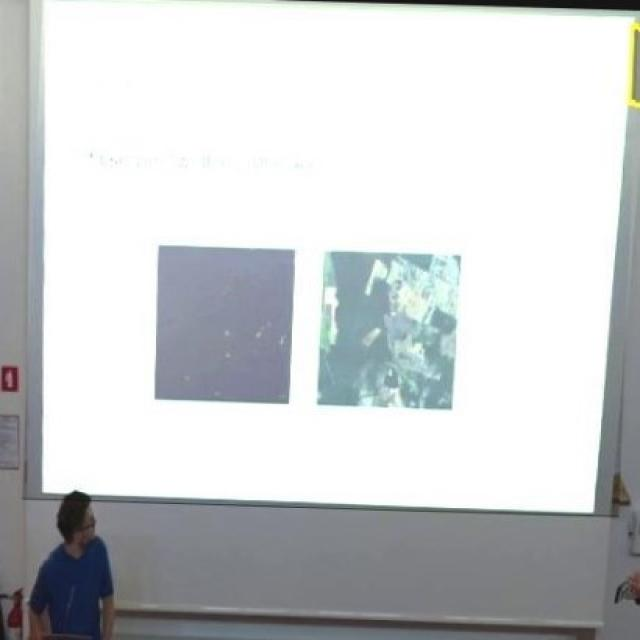Instructor: (39, 484, 128, 634)
Slide: (40, 2, 638, 510)
